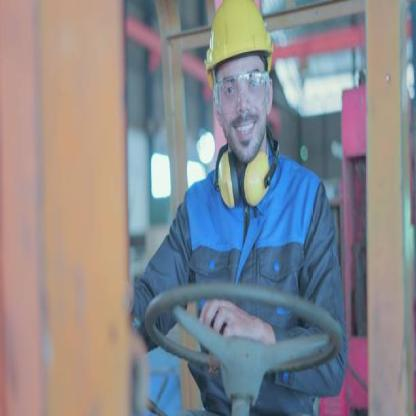capacete: (205, 1, 274, 74)
oculos: (210, 71, 275, 114)
